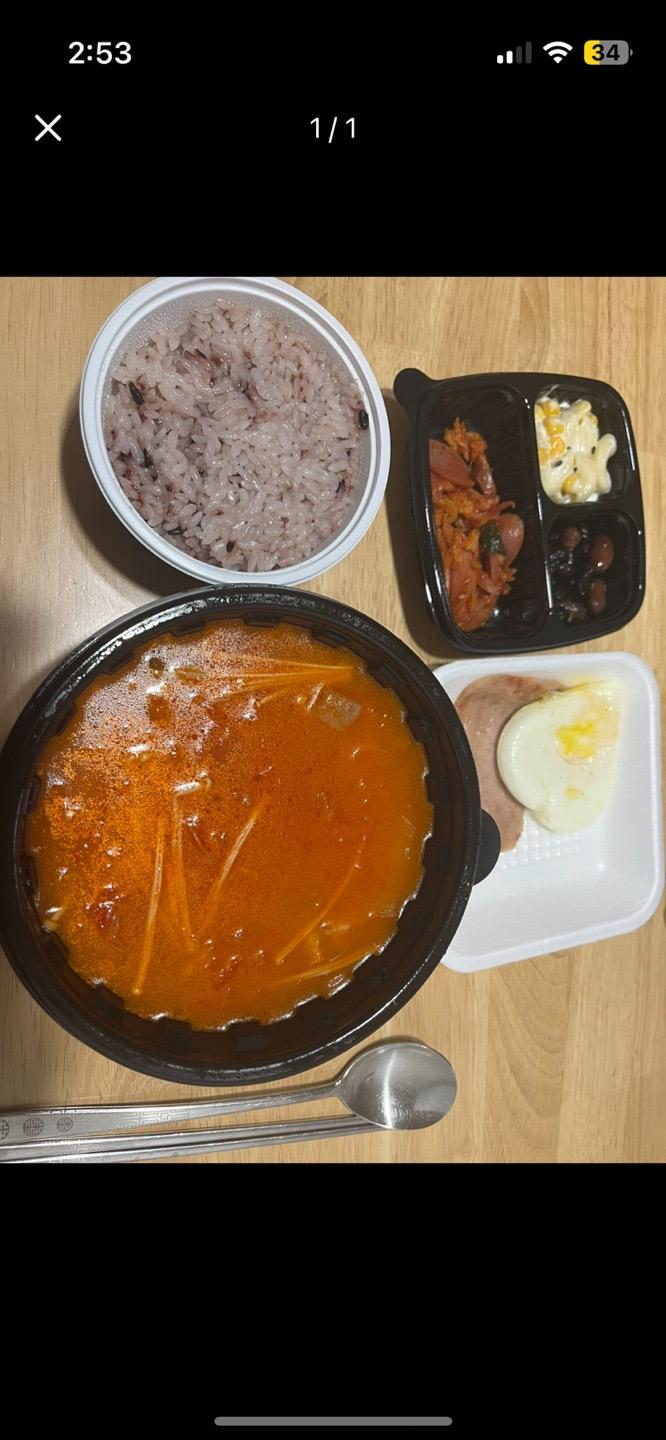Lunch Box: (0, 587, 499, 1086), (79, 277, 390, 583), (435, 653, 663, 971), (394, 369, 645, 656)
